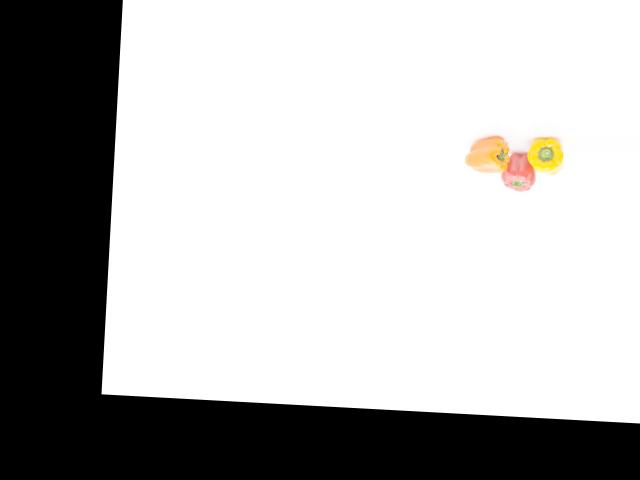bell_pepper: (521, 135, 567, 177)
